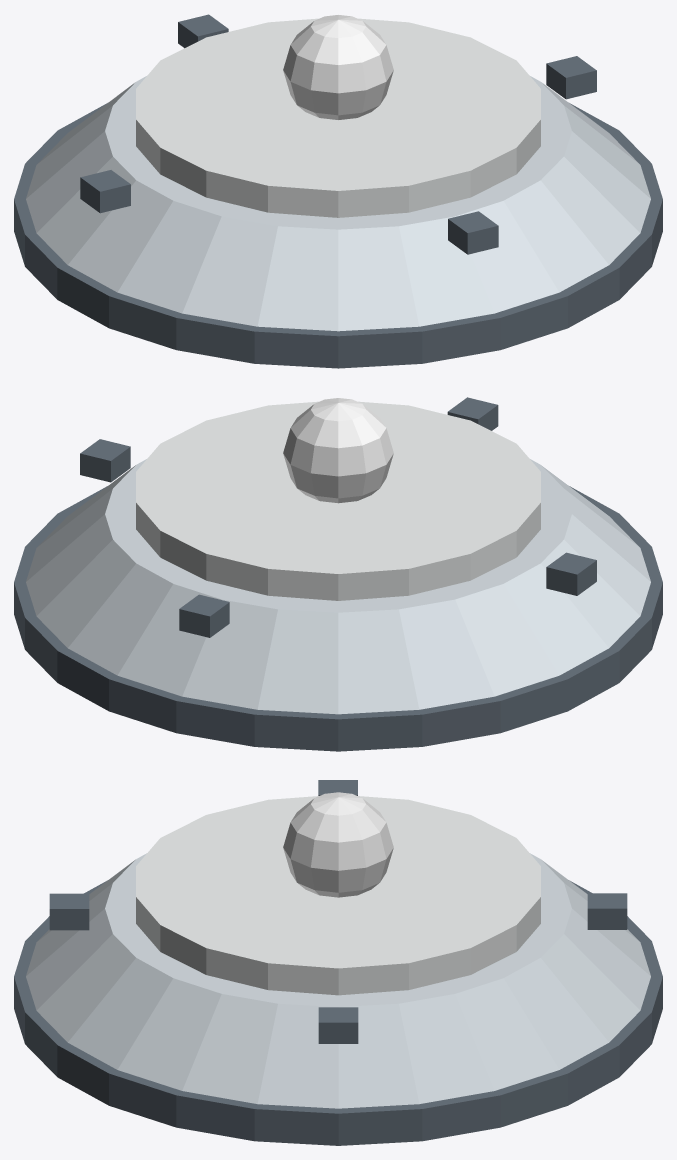
The model's file is capsula_tapa.glb.
The picture shows the model from 3 angles, top to bottom: view 1: azimuth 30°, elevation 25°; view 2: azimuth 150°, elevation 25°; view 3: azimuth 270°, elevation 25°; orthographic projection.
Visible parts, largest first — view 1: capsula_tapa; view 2: capsula_tapa; view 3: capsula_tapa.
Boxes of the visible parts, bbox=[...] form: capsula_tapa: bbox=[14, 14, 662, 368]; capsula_tapa: bbox=[14, 397, 662, 751]; capsula_tapa: bbox=[14, 780, 662, 1145].
Bounding box in the file's own units: 1.64 × 0.59 × 1.64.
